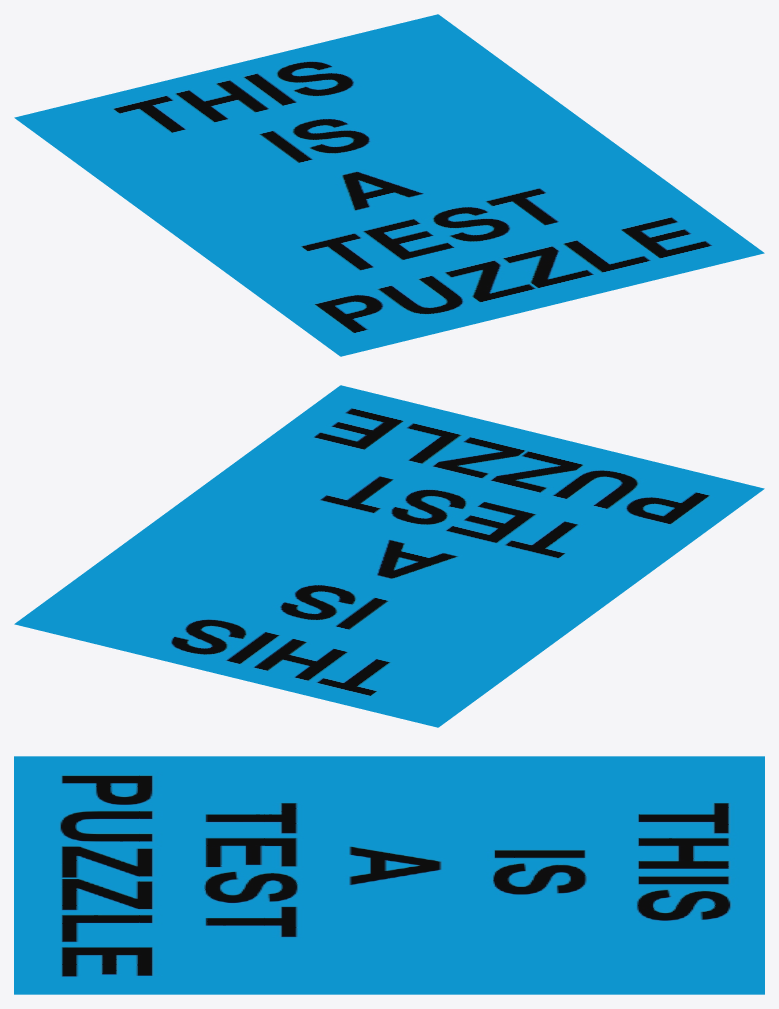
The model's file is Level_1-Medium.fbx.
The picture shows the model from 3 angles, top to bottom: view 1: azimuth 30°, elevation 25°; view 2: azimuth 150°, elevation 25°; view 3: azimuth 270°, elevation 25°; orthographic projection. The views are drawn at different scales.
Visible parts, largest first — view 1: Base1-2, Piece1-2.008-1, Piece1-2.017-0, Piece1-2.001-0, Piece1-2.004-1, Piece1-2.011-1, Piece1-2.022-0, Piece1-2.016-1, Piece1-2.024-0, Piece1-2.010-0, Piece1-2.014-1, Piece1-2.013-1 (+15 smaller); view 2: Base1-2, Piece1-2.016-1, Piece1-2.024-0, Piece1-2.001-0, Piece1-2.004-1, Piece1-2.011-1, Piece1-2.022-0, Piece1-2.008-1, Piece1-2.017-0, Piece1-2.012-1, Piece1-2.015-0, Piece1-2.013-1 (+15 smaller); view 3: Base1-2, Piece1-2.000-0, Piece1-2.002-0, Piece1-2.003-1, Piece1-2.005-1, Piece1-2.001-0, Piece1-2.004-1, Piece1-2.010-0, Piece1-2.012-1, Piece1-2.014-1, Piece1-2.015-0, Piece1-2.007-1 (+15 smaller).
Boxes of the visible parts, x1=… form: Base1-2: x1=14, y1=14, x2=764, y2=356; Piece1-2.008-1: x1=229, y1=145, x2=336, y2=198; Piece1-2.017-0: x1=442, y1=172, x2=549, y2=225; Piece1-2.001-0: x1=226, y1=66, x2=333, y2=118; Piece1-2.004-1: x1=445, y1=252, x2=552, y2=304; Piece1-2.011-1: x1=337, y1=172, x2=443, y2=225; Piece1-2.022-0: x1=335, y1=145, x2=441, y2=198; Piece1-2.016-1: x1=335, y1=120, x2=442, y2=172; Piece1-2.024-0: x1=336, y1=198, x2=443, y2=250; Piece1-2.010-0: x1=227, y1=119, x2=334, y2=171; Piece1-2.014-1: x1=444, y1=199, x2=551, y2=251; Piece1-2.013-1: x1=228, y1=93, x2=334, y2=145; Base1-2: x1=14, y1=385, x2=764, y2=727; Piece1-2.016-1: x1=229, y1=543, x2=336, y2=596; Piece1-2.024-0: x1=442, y1=516, x2=549, y2=569; Piece1-2.001-0: x1=226, y1=623, x2=333, y2=675; Piece1-2.004-1: x1=445, y1=437, x2=552, y2=489; Piece1-2.011-1: x1=337, y1=516, x2=443, y2=569; Piece1-2.022-0: x1=335, y1=543, x2=441, y2=596; Piece1-2.008-1: x1=335, y1=569, x2=442, y2=621; Piece1-2.017-0: x1=336, y1=491, x2=443, y2=543; Piece1-2.012-1: x1=444, y1=490, x2=551, y2=542; Piece1-2.015-0: x1=227, y1=570, x2=334, y2=622; Piece1-2.013-1: x1=228, y1=596, x2=334, y2=648; Base1-2: x1=14, y1=756, x2=764, y2=994; Piece1-2.000-0: x1=639, y1=786, x2=763, y2=845; Piece1-2.002-0: x1=639, y1=905, x2=763, y2=964; Piece1-2.003-1: x1=15, y1=905, x2=139, y2=964; Piece1-2.005-1: x1=15, y1=786, x2=139, y2=845; Piece1-2.001-0: x1=639, y1=846, x2=764, y2=904; Piece1-2.004-1: x1=14, y1=846, x2=139, y2=904; Piece1-2.010-0: x1=514, y1=816, x2=638, y2=875; Piece1-2.012-1: x1=140, y1=816, x2=264, y2=875; Piece1-2.014-1: x1=140, y1=875, x2=264, y2=934; Piece1-2.015-0: x1=514, y1=875, x2=638, y2=934; Piece1-2.007-1: x1=265, y1=786, x2=389, y2=845.
Bounding box in the file's own units: 3000 × 0.000652 × 4000.
1 material, 1 textured.
